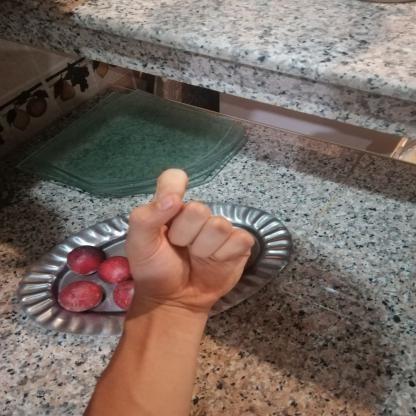FAA: (112, 160, 264, 318)
